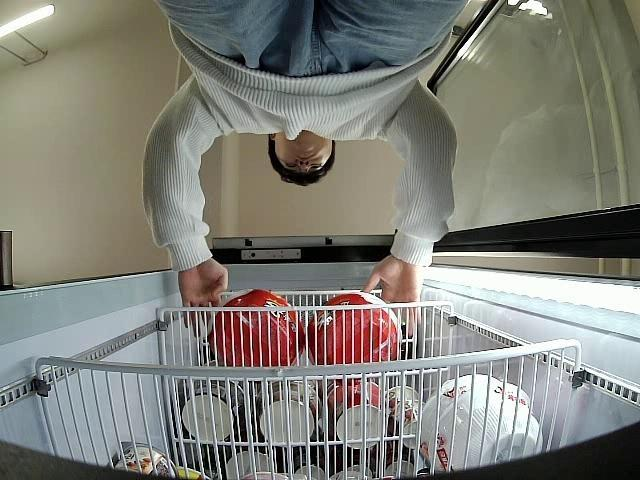10_wangTtukkeong: (309, 293, 400, 388), (208, 289, 303, 368)
